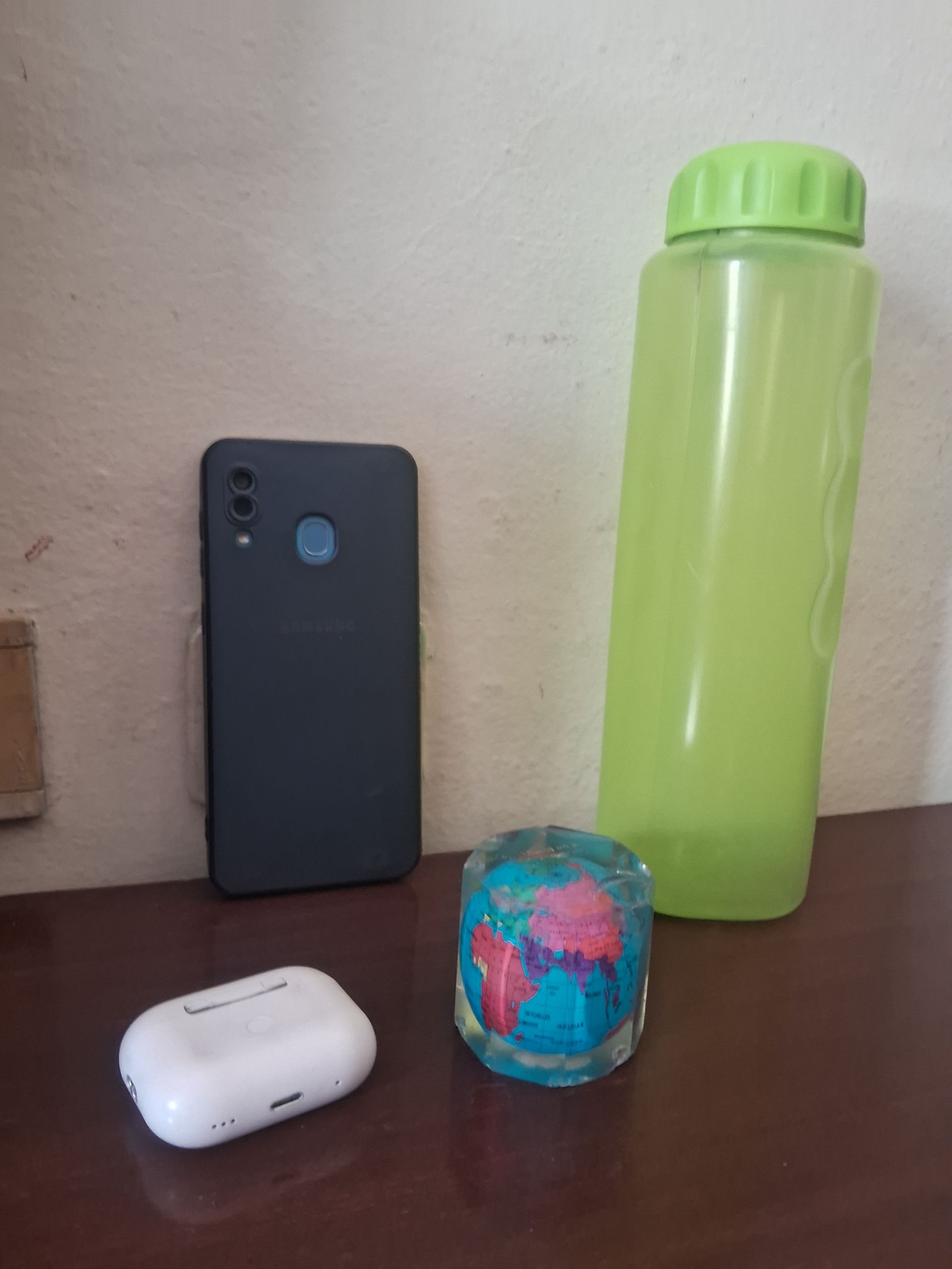Air_pod: (110, 961, 385, 1159)
Smart_phone: (184, 423, 436, 908)
Water_bottle: (589, 111, 887, 943)
world_globe: (447, 808, 671, 1092)
